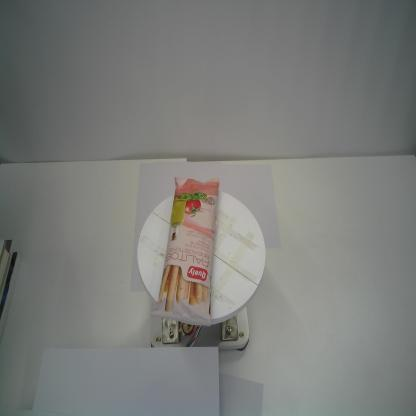Dessert: (150, 176, 219, 327)
